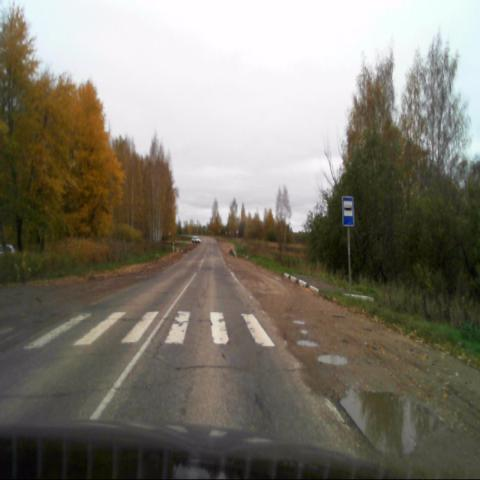5_16: (342, 196, 353, 227)
